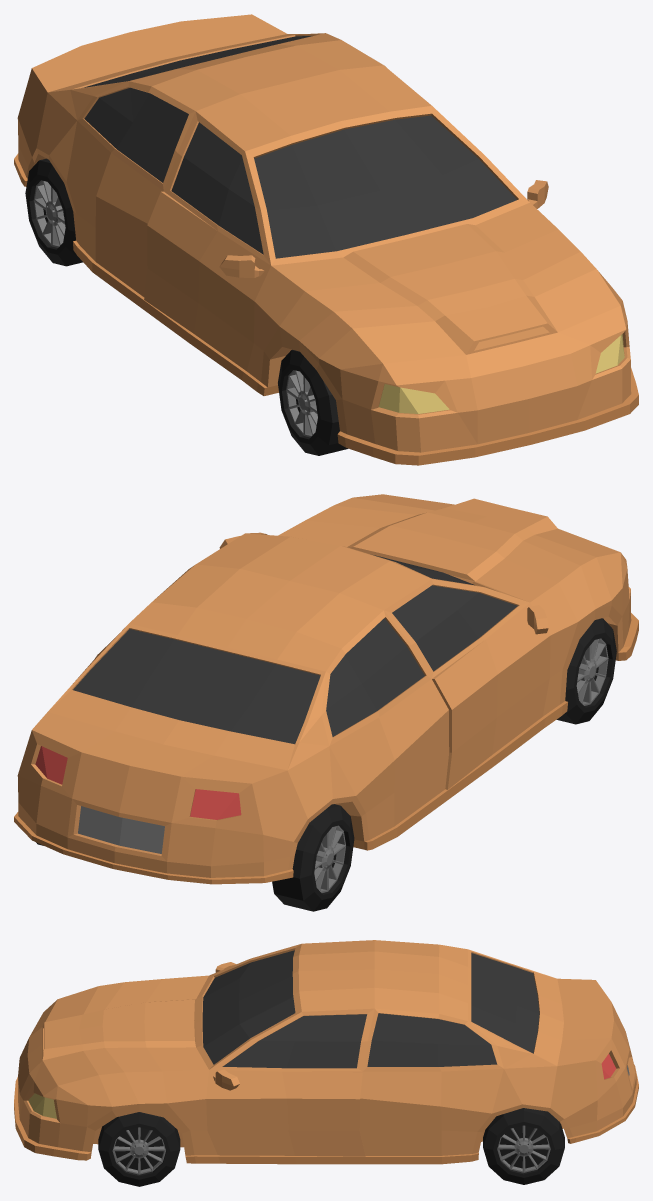
Rendered from SportsCar.glb.
3 renders of one model, top to bottom at view 1: azimuth 30°, elevation 25°; view 2: azimuth 150°, elevation 25°; view 3: azimuth 270°, elevation 25°, orthographic. The views are drawn at different scales.
Parts seen in each view (by area): view 1: SportsCar; view 2: SportsCar; view 3: SportsCar.
Boxes of the visible parts, x1,y1,x2,y2 form: SportsCar: (14,14,638,465); SportsCar: (14,494,638,911); SportsCar: (14,940,638,1186).
Size of the model in its own units: 1.8 by 1.16 by 3.97.
1 material, 1 textured.
